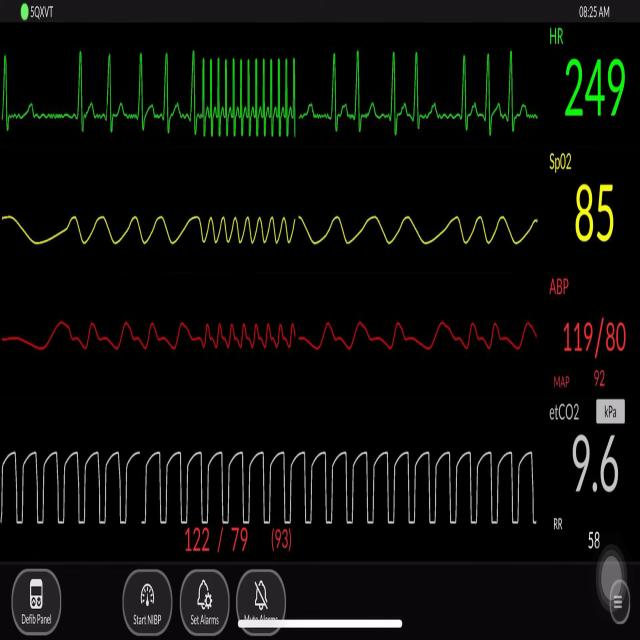danger: (180, 36, 307, 151)
